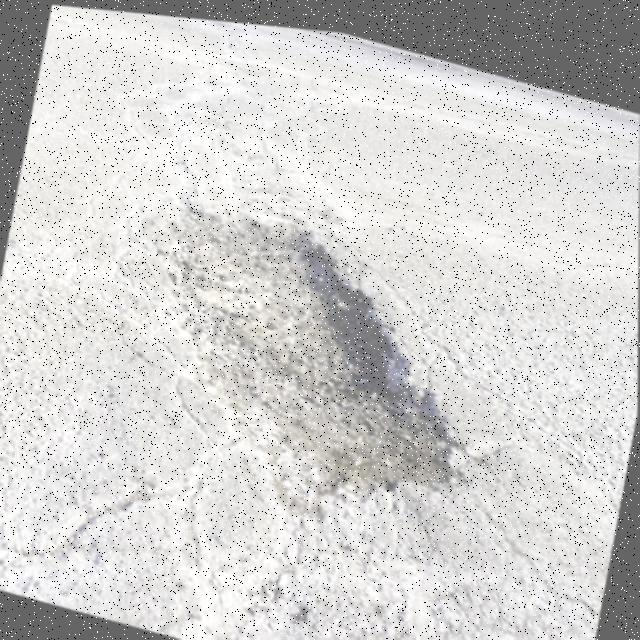pothole: (103, 171, 513, 531)
